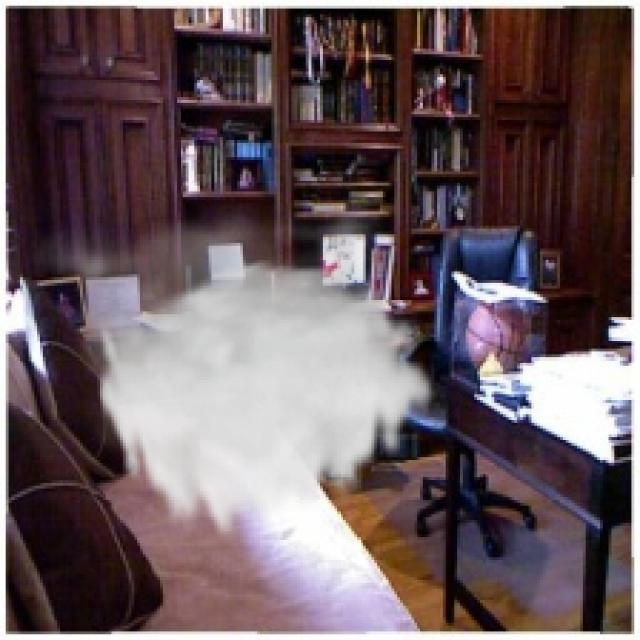smoke: (23, 191, 437, 546)
